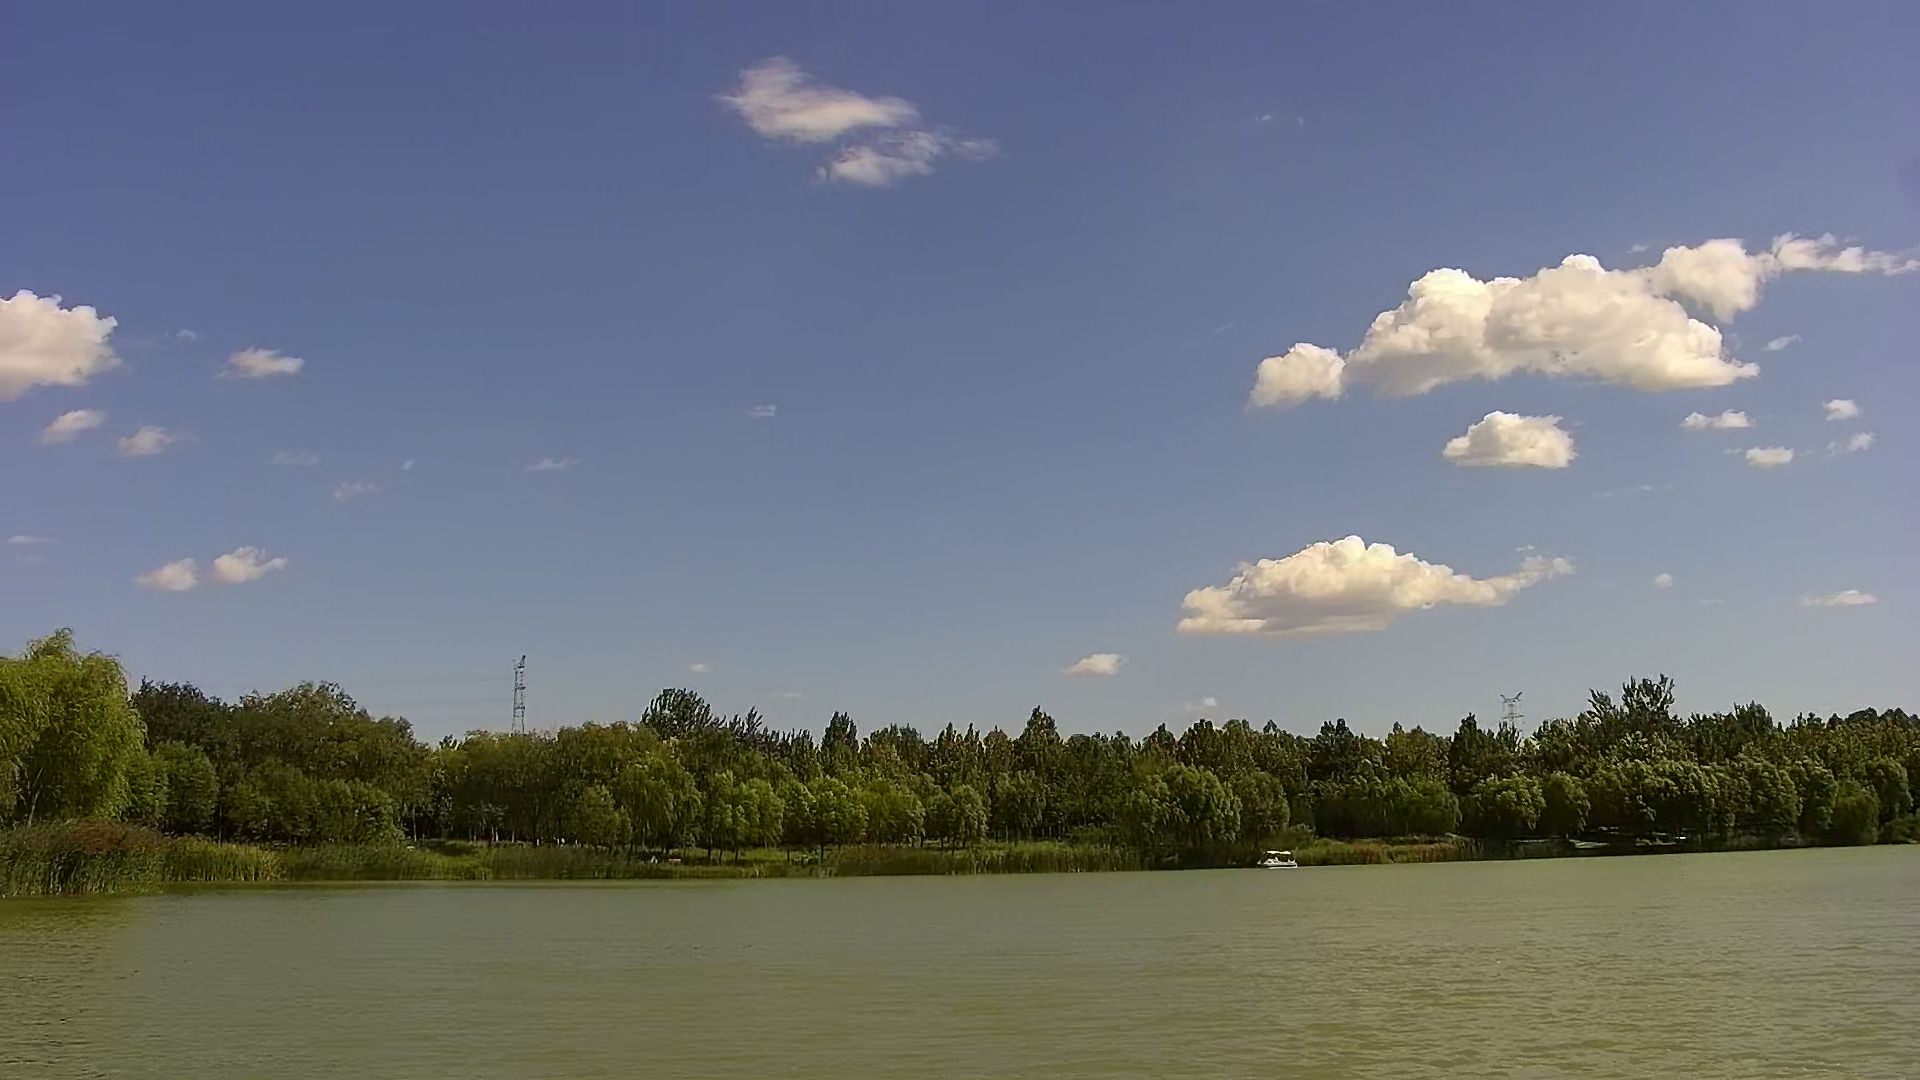boat: (1247, 843, 1304, 868)
